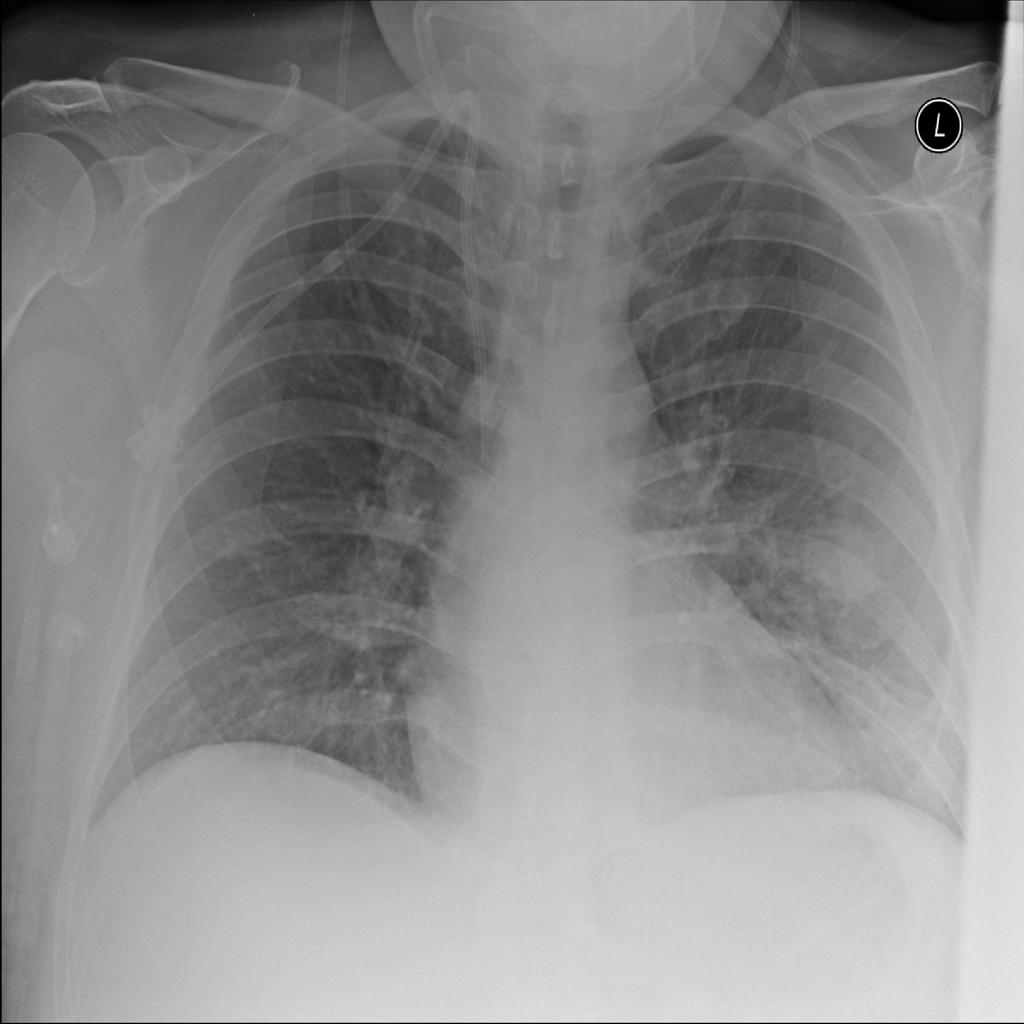nodule: (795, 496, 902, 622)
